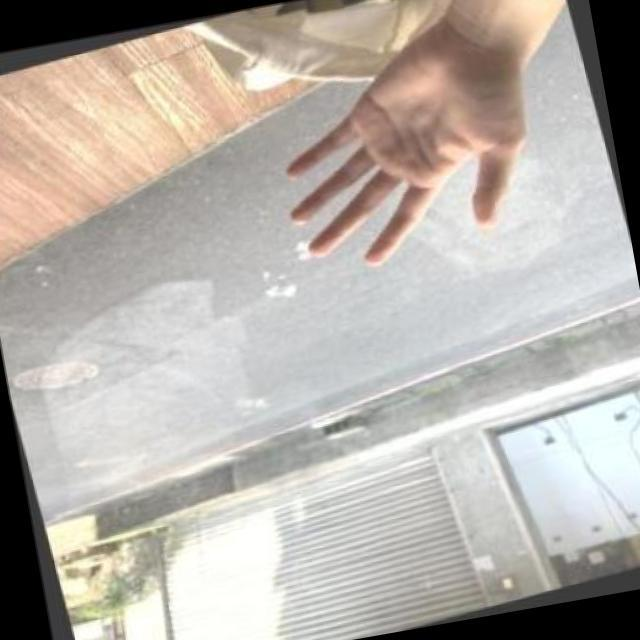without_gloves: (232, 0, 585, 305)
